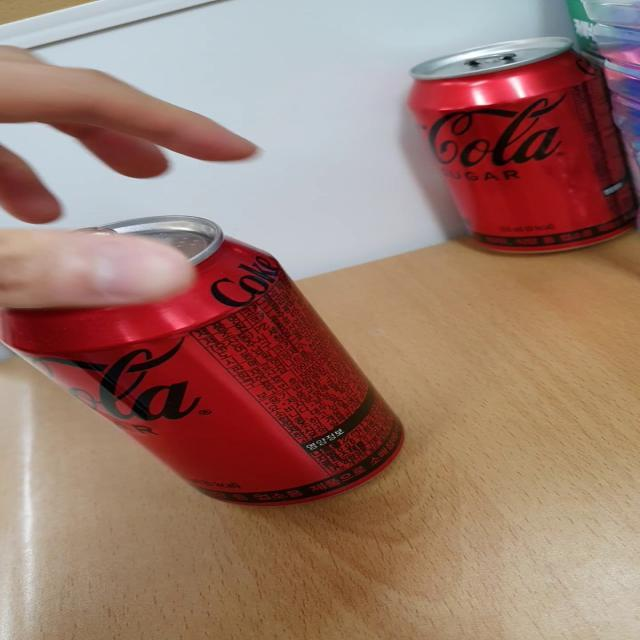coca-cola: (1, 212, 425, 498), (392, 27, 640, 257)
